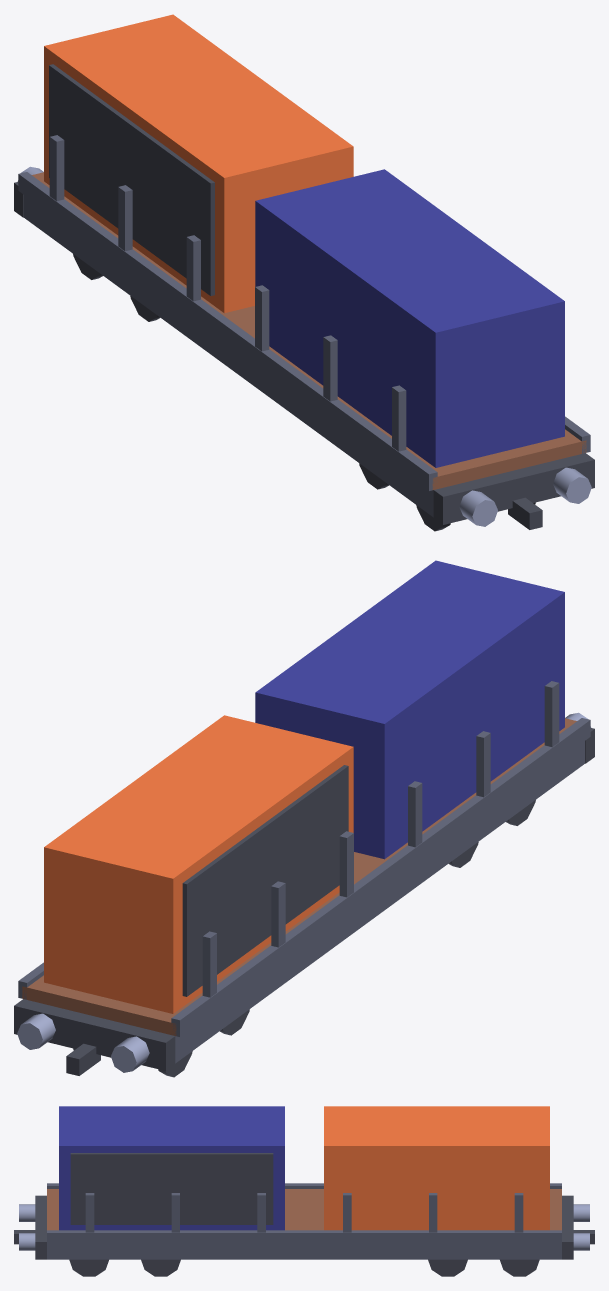
The model's file is wagon-plat.glb.
3 views of the same model, one above another, from view 1: azimuth 30°, elevation 25°; view 2: azimuth 150°, elevation 25°; view 3: azimuth 270°, elevation 25° (orthographic). The views are drawn at different scales.
Parts seen in each view (by area): view 1: charge-2, charge-1, charge-1-porte, bordure-g, brancard-g, plancher, traverse-tete-ar, tampon-ard, ranchet-g-0, tampon-arg, ranchet-g-2, ranchet-g-1 (+4 smaller); view 2: charge-2, charge-1, charge-1-porte, bordure-g, brancard-g, plancher, traverse-tete-av, tampon-avd, ranchet-g-5, tampon-avg, ranchet-g-3, ranchet-g-2 (+4 smaller); view 3: charge-1, charge-2-porte, charge-2, brancard-d, bordure-d, plancher, traverse-tete-av, traverse-tete-ar, essieu-av-1-bandage-d, essieu-ar-2-bandage-d, essieu-av-2-bandage-d, essieu-ar-1-bandage-d (+11 smaller).
Boxes of the visible parts, <box> form: charge-2: <box>255,169,564,467</box>; charge-1: <box>44,14,353,313</box>; charge-1-porte: <box>49,64,214,295</box>; bordure-g: <box>18,172,437,490</box>; brancard-g: <box>24,195,433,517</box>; plancher: <box>32,172,586,489</box>; traverse-tete-ar: <box>433,453,594,524</box>; tampon-ard: <box>553,467,591,503</box>; ranchet-g-0: <box>49,135,64,201</box>; tampon-arg: <box>459,490,497,526</box>; ranchet-g-2: <box>186,235,200,301</box>; ranchet-g-1: <box>118,185,132,251</box>; charge-2: <box>255,560,564,859</box>; charge-1: <box>44,715,353,1013</box>; charge-1-porte: <box>182,765,348,996</box>; bordure-g: <box>171,718,590,1036</box>; brancard-g: <box>175,741,584,1063</box>; plancher: <box>22,718,576,1035</box>; traverse-tete-av: <box>14,999,175,1070</box>; tampon-avd: <box>17,1013,55,1049</box>; ranchet-g-5: <box>544,681,559,747</box>; tampon-avg: <box>111,1036,149,1072</box>; ranchet-g-3: <box>408,781,422,847</box>; ranchet-g-2: <box>339,831,353,897</box>; charge-1: <box>324,1106,549,1230</box>; charge-2-porte: <box>70,1153,273,1224</box>; charge-2: <box>59,1106,284,1230</box>; brancard-d: <box>47,1243,561,1259</box>; bordure-d: <box>47,1230,561,1243</box>; plancher: <box>47,1189,561,1230</box>; traverse-tete-av: <box>562,1195,573,1259</box>; traverse-tete-ar: <box>35,1195,46,1259</box>; essieu-av-1-bandage-d: <box>500,1259,539,1276</box>; essieu-ar-2-bandage-d: <box>69,1259,108,1276</box>; essieu-av-2-bandage-d: <box>428,1259,467,1276</box>; essieu-ar-1-bandage-d: <box>141,1259,180,1276</box>.
Bounding box in the file's own units: 0.15 × 0.1927 × 0.745.
